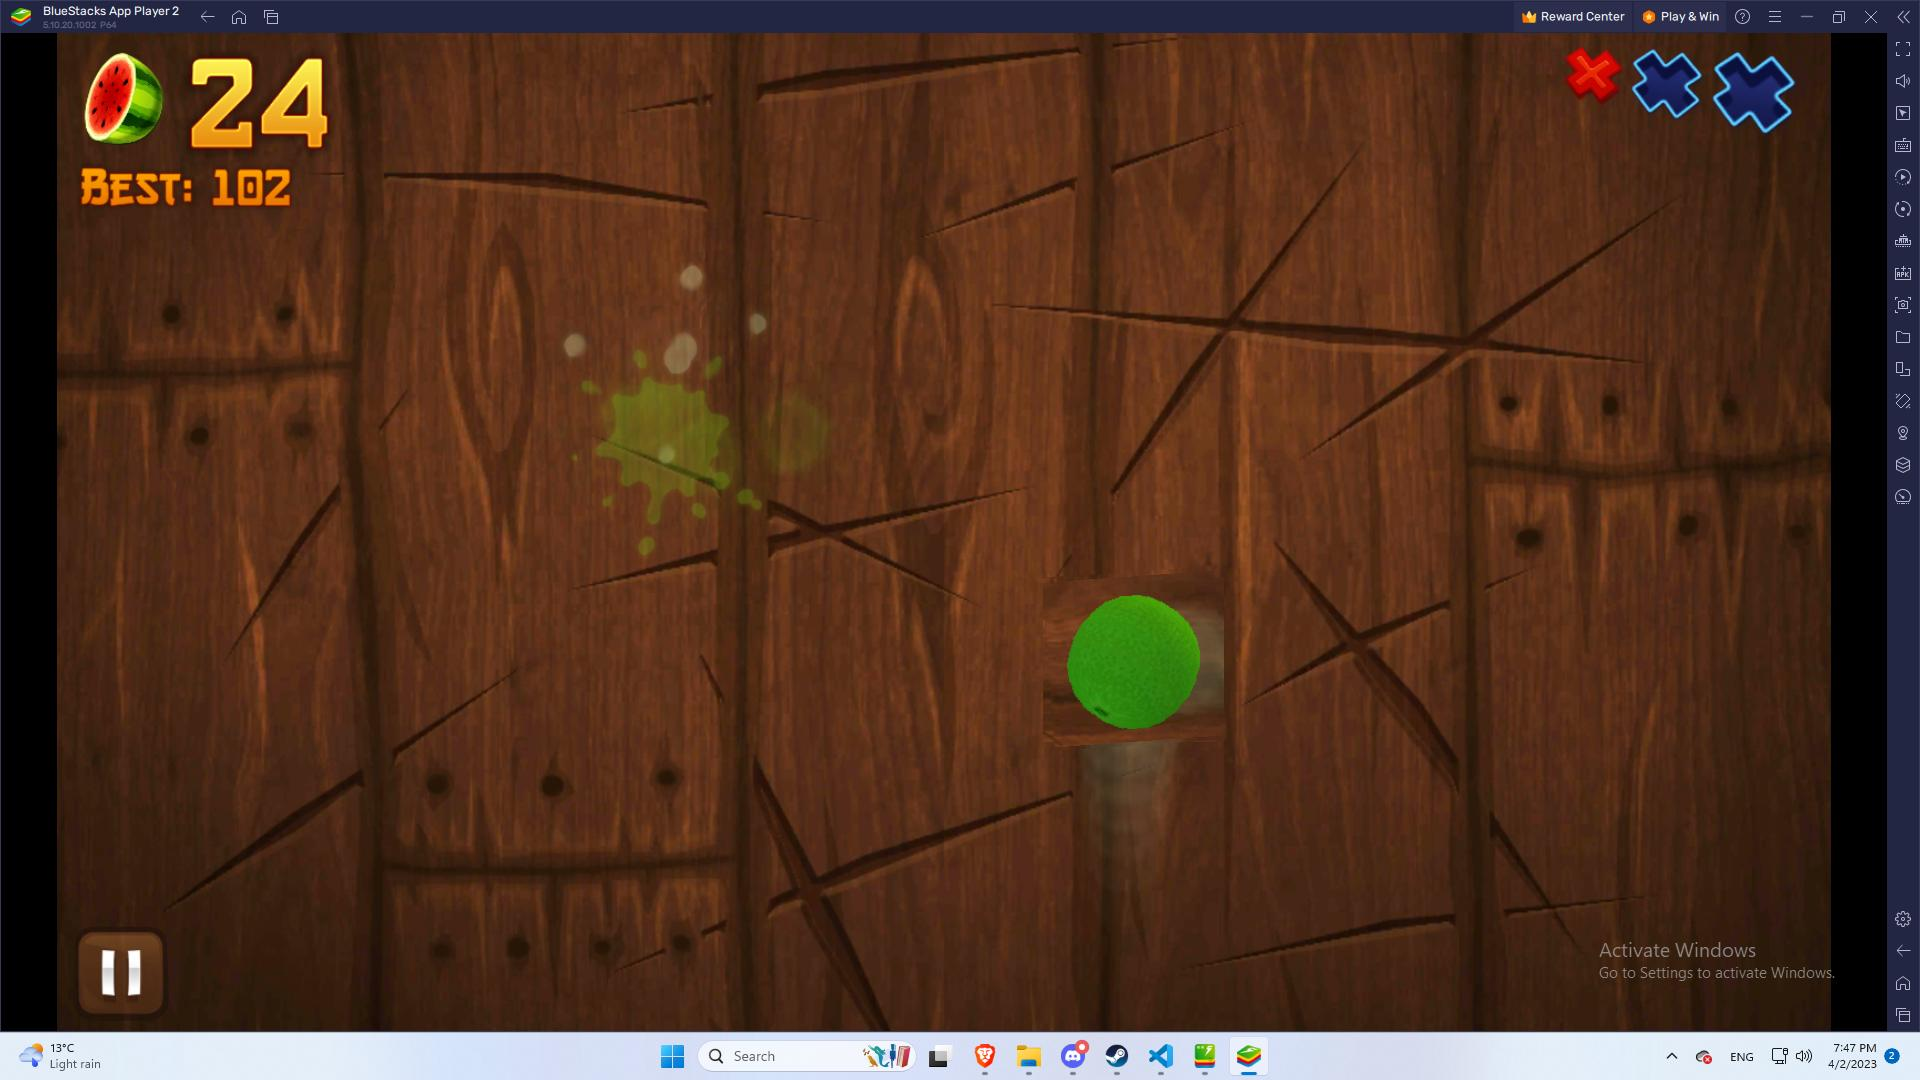fruit: (1044, 570, 1224, 749)
